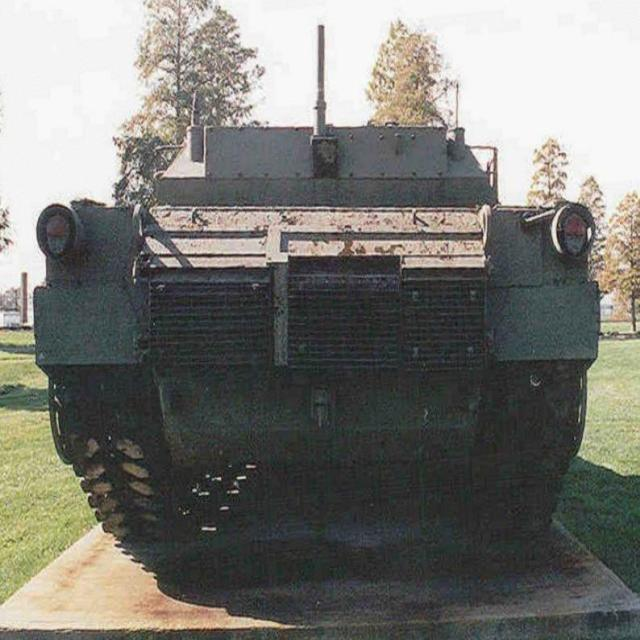Tanks: (20, 27, 572, 600)
